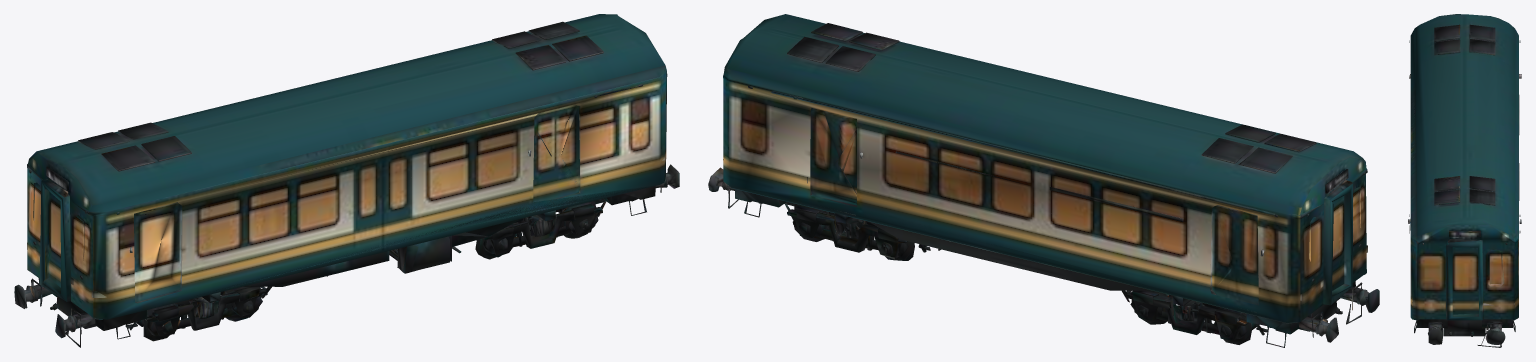
The model's file is carriage.glb.
The picture shows the model from 3 angles, left to right: view 1: azimuth 30°, elevation 25°; view 2: azimuth 150°, elevation 25°; view 3: azimuth 270°, elevation 25°; orthographic projection. The views are drawn at different scales.
Bounding box in the file's own units: 0.9556 × 0.2725 × 0.2041.
1 material, 1 textured.
